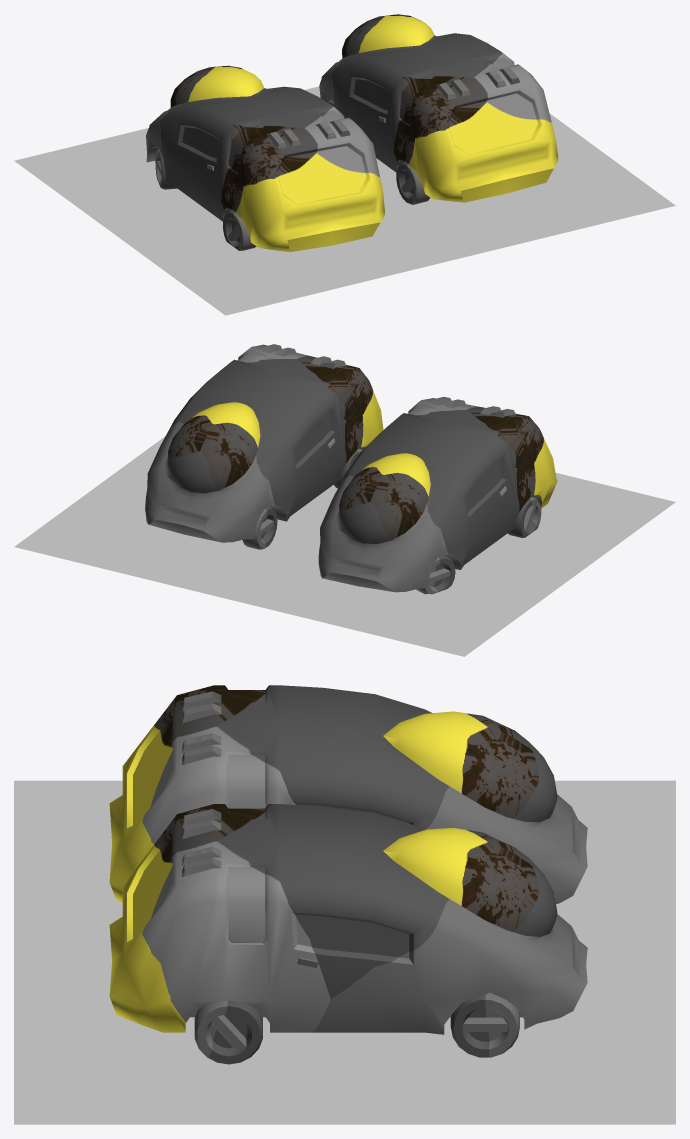
The model's file is futurecars.FBX.
The picture shows the model from 3 angles, top to bottom: view 1: azimuth 30°, elevation 25°; view 2: azimuth 150°, elevation 25°; view 3: azimuth 270°, elevation 25°; orthographic projection. The views are drawn at different scales.
Parts seen in each view (by area): view 1: Plane001, Object004, Object003, Object002, Object005; view 2: Plane001, Object004, Object003, Object002, Object005; view 3: Plane001, Object003, Object004, Object002, Object005.
Part boxes in pixels (box(x1,y1,x2,y2)): Plane001: box(14, 86, 675, 315); Object004: box(146, 86, 384, 252); Object003: box(319, 33, 558, 204); Object002: box(342, 14, 537, 154); Object005: box(170, 65, 366, 203); Plane001: box(14, 436, 675, 656); Object004: box(318, 396, 557, 594); Object003: box(145, 344, 383, 549); Object002: box(167, 353, 352, 493); Object005: box(339, 406, 524, 543); Plane001: box(14, 780, 675, 1124); Object003: box(109, 804, 587, 1064); Object004: box(109, 685, 587, 903); Object002: box(133, 808, 557, 958); Object005: box(133, 690, 557, 825).
Bounding box in the file's own units: 269 × 66.93 × 219.
